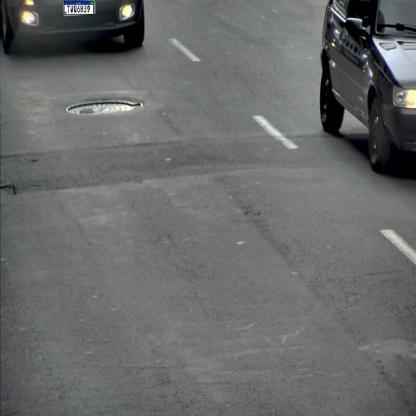PlacaM: (64, 0, 94, 14)
